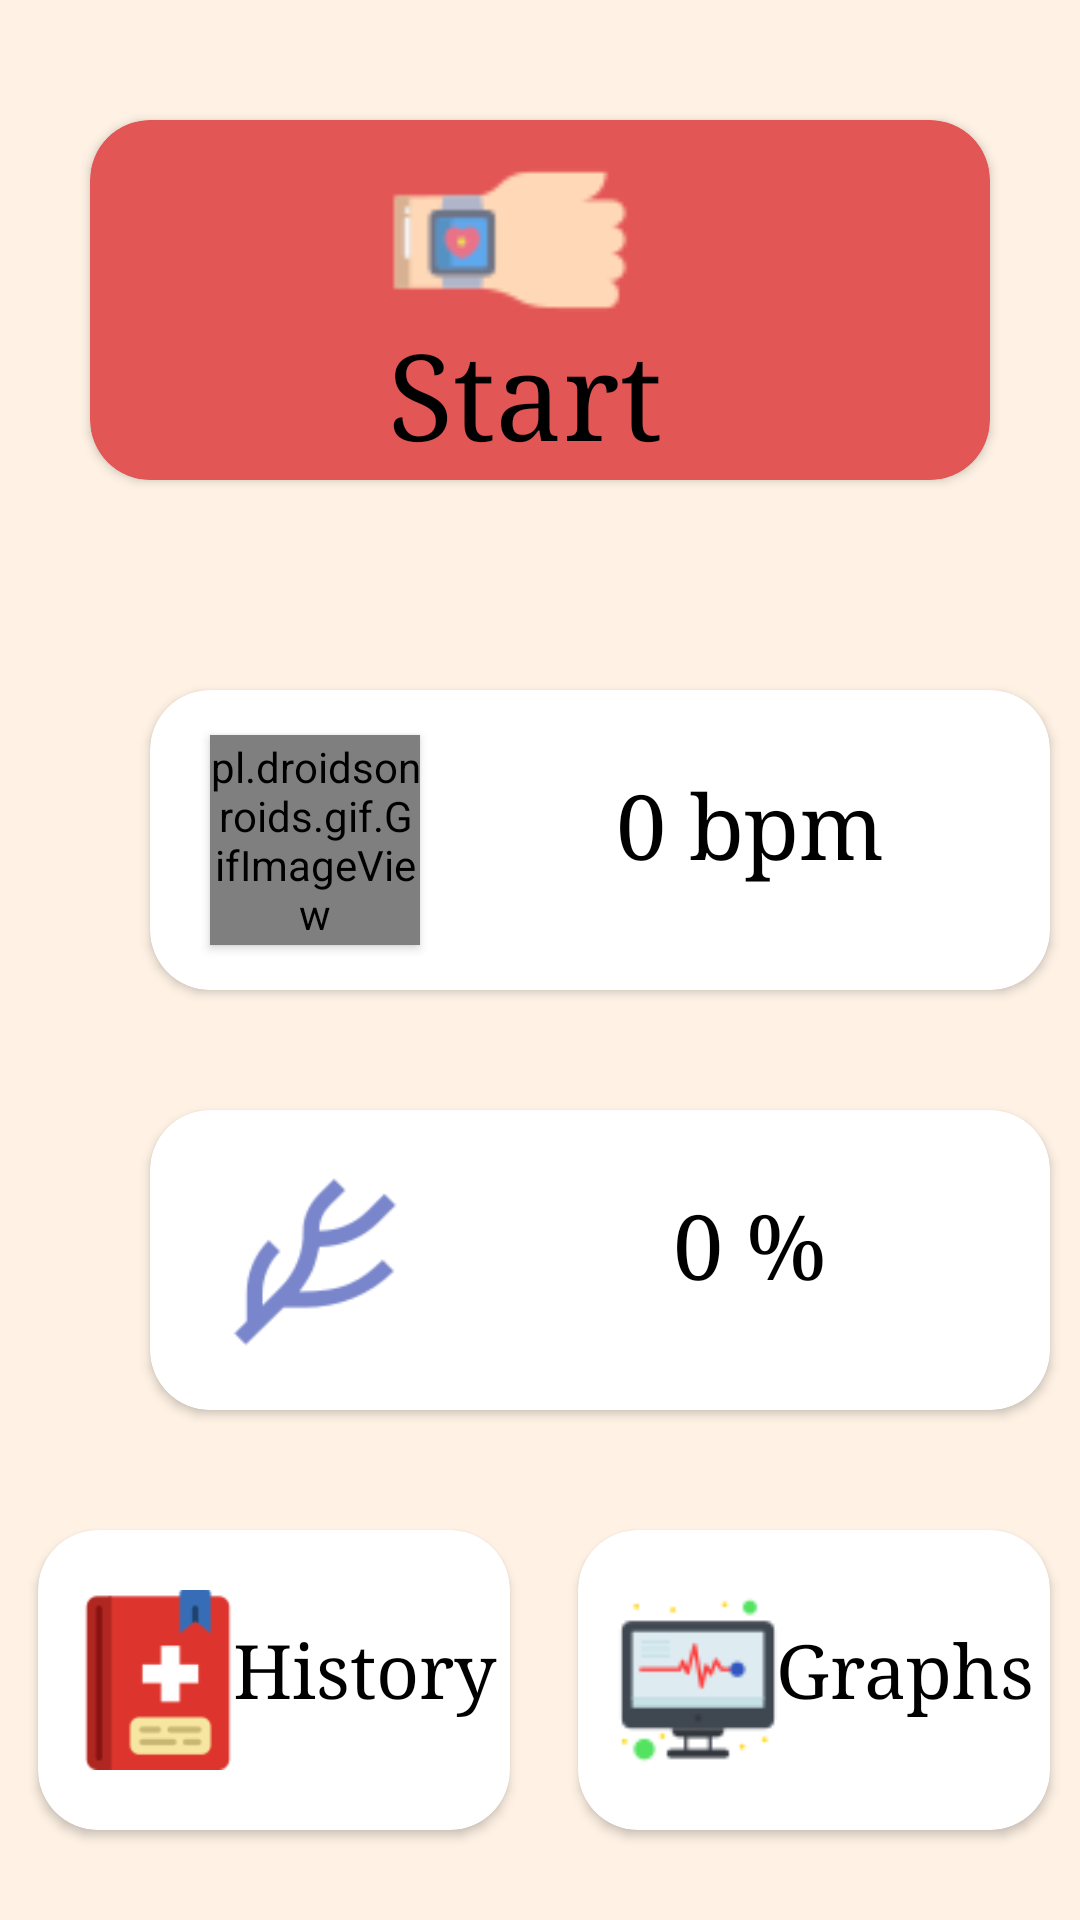

Icon click points for this 1080x1920 phone screenshot, format (x,y):
veins: (315,1262)
watch: (510,240)
